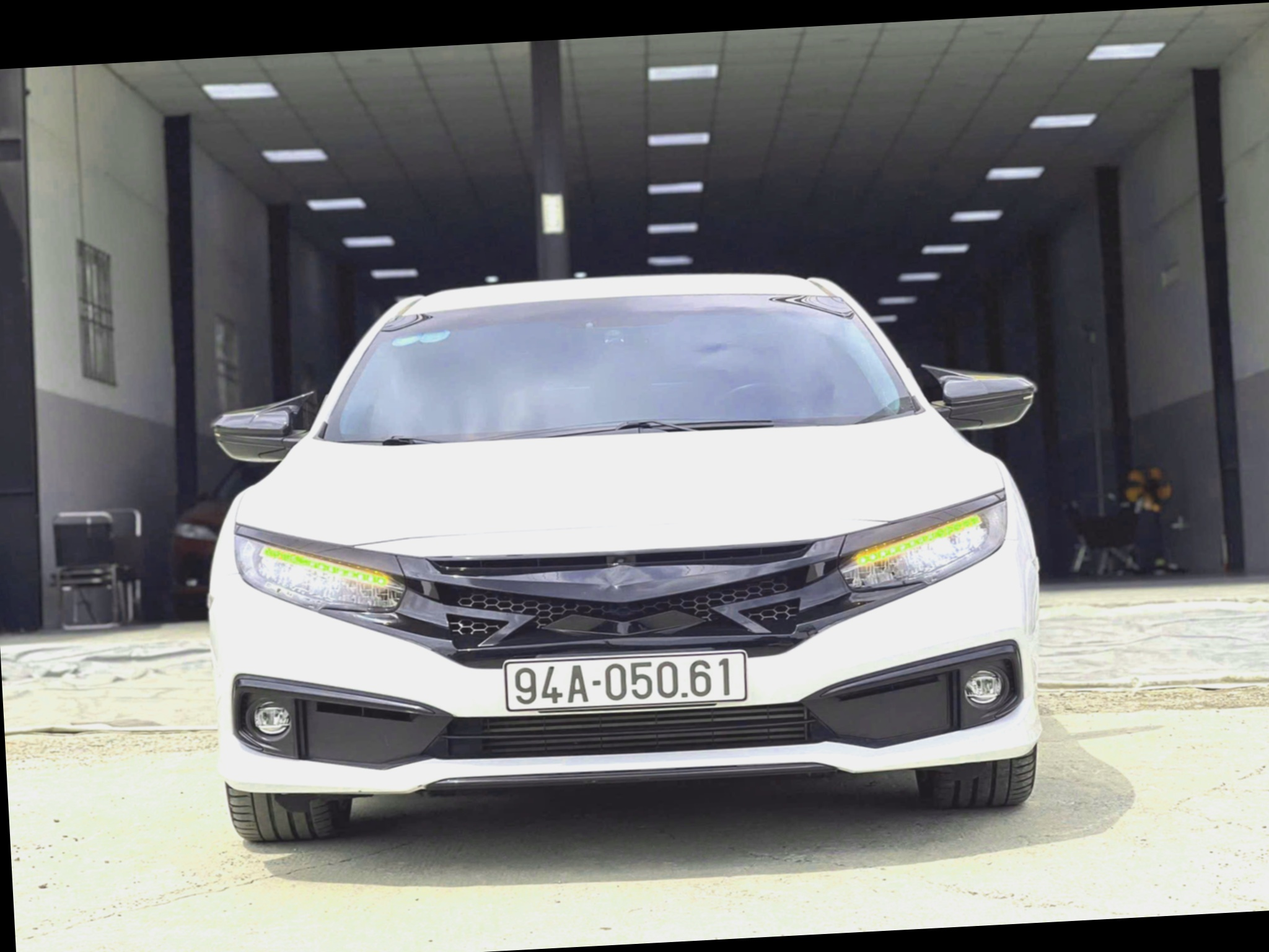Bien-so: (472, 627, 712, 704)
